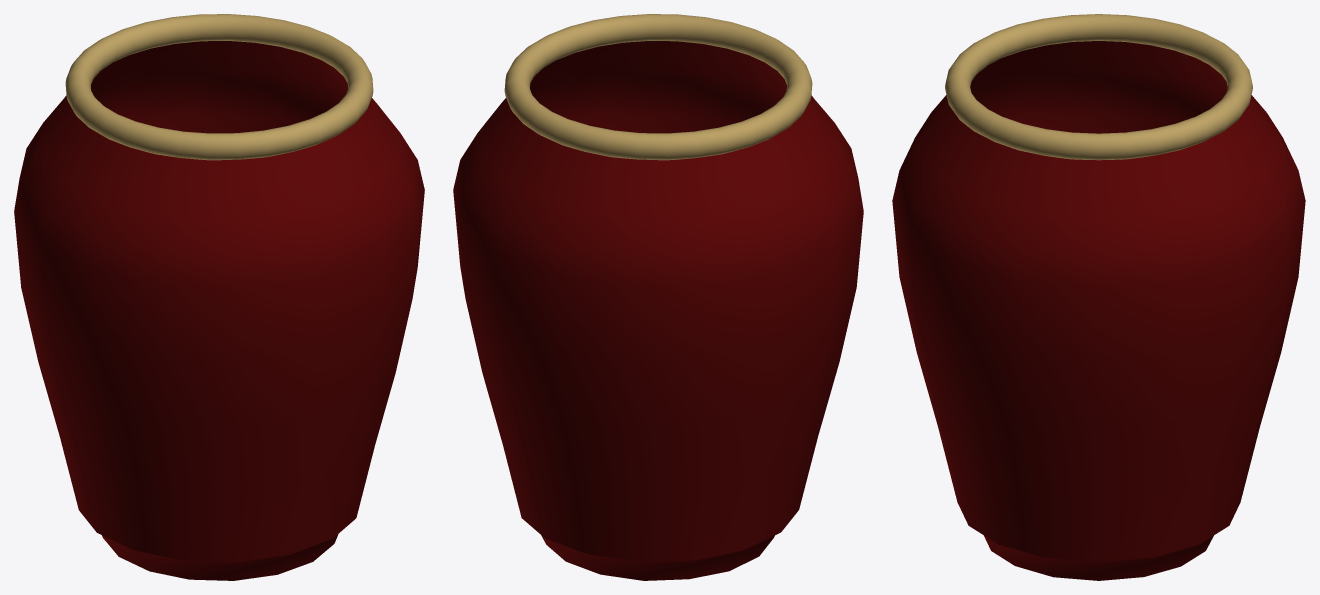
3 renders of one model, left to right at view 1: azimuth 30°, elevation 25°; view 2: azimuth 150°, elevation 25°; view 3: azimuth 270°, elevation 25°, orthographic.
Parts seen in each view (by area): view 1: 2541002; view 2: 2541002; view 3: 2541002.
Part boxes in pixels (x1,y1,x2,y2): 2541002: (14, 14, 424, 580); 2541002: (453, 14, 863, 580); 2541002: (892, 14, 1305, 580).
Bounding box in the file's own units: 100 × 122 × 100.
